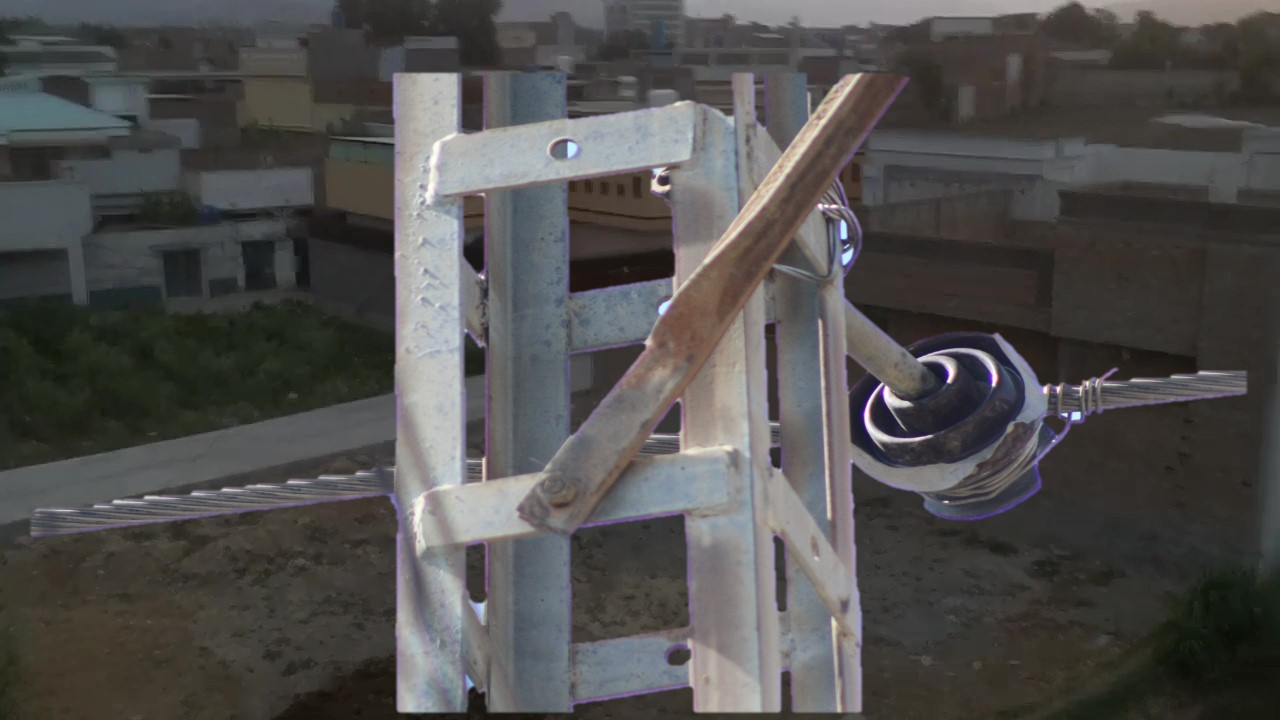defect_pin: (844, 313, 1080, 535)
